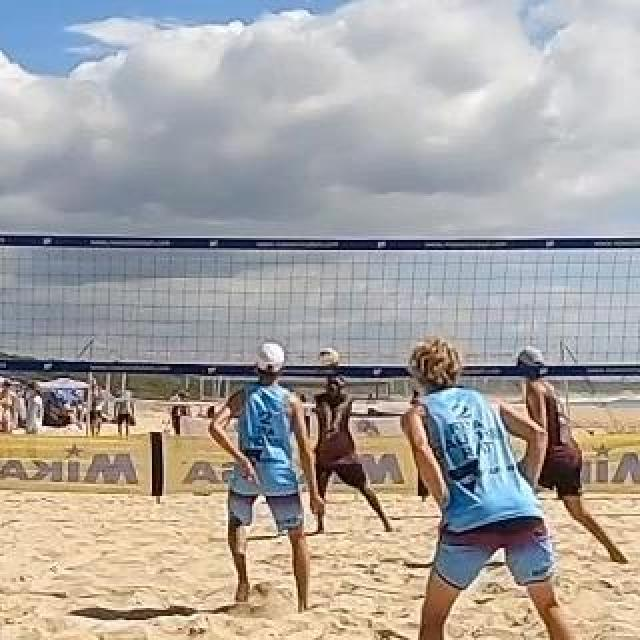volleyball: (318, 348, 338, 368)
